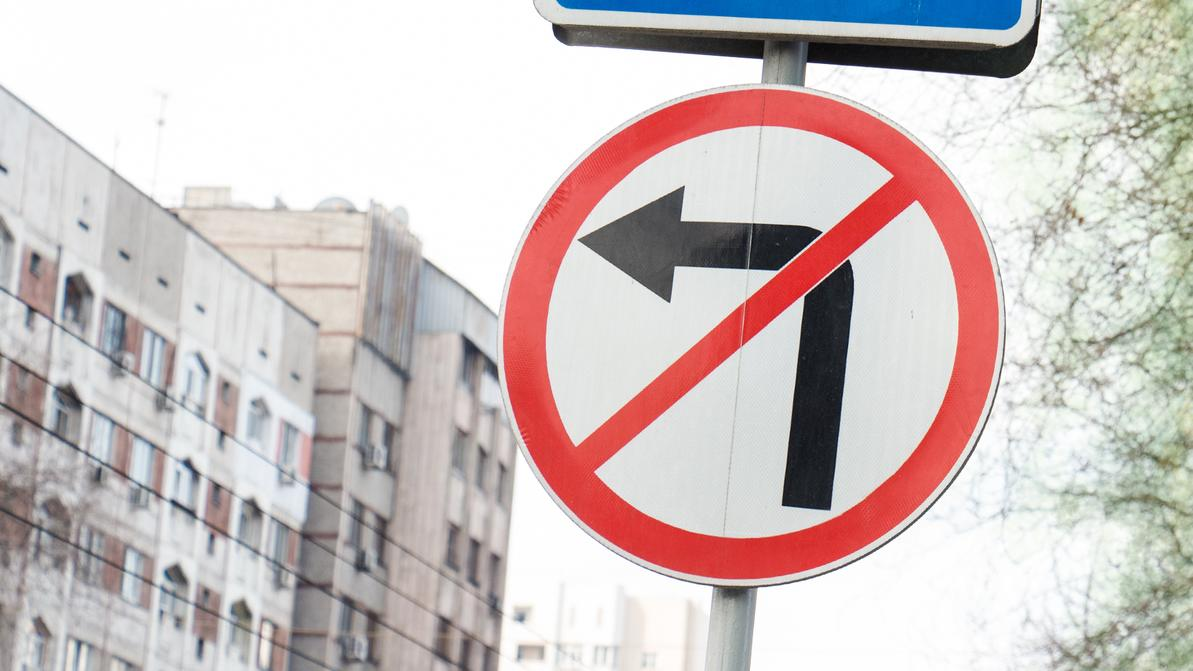sola_girilmez: (500, 81, 1002, 582)
